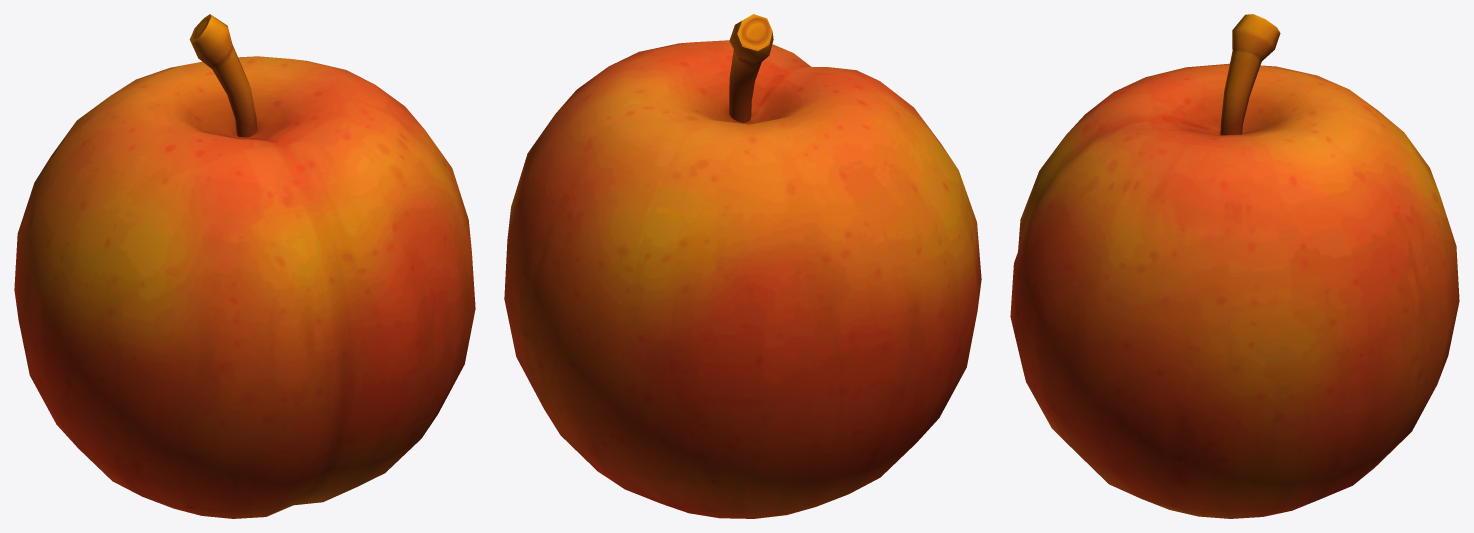
Rendered from SM_Peach.fbx.
The picture shows the model from 3 angles, left to right: view 1: azimuth 30°, elevation 25°; view 2: azimuth 150°, elevation 25°; view 3: azimuth 270°, elevation 25°; orthographic projection. The views are drawn at different scales.
Visible parts, largest first — view 1: SM_Peach; view 2: SM_Peach; view 3: SM_Peach.
Part boxes in pixels (x1,y1,x2,y2): SM_Peach: [14, 14, 475, 518]; SM_Peach: [504, 14, 981, 518]; SM_Peach: [1010, 14, 1459, 518].
Size of the model in its own units: 13.45 by 15.22 by 13.2.
